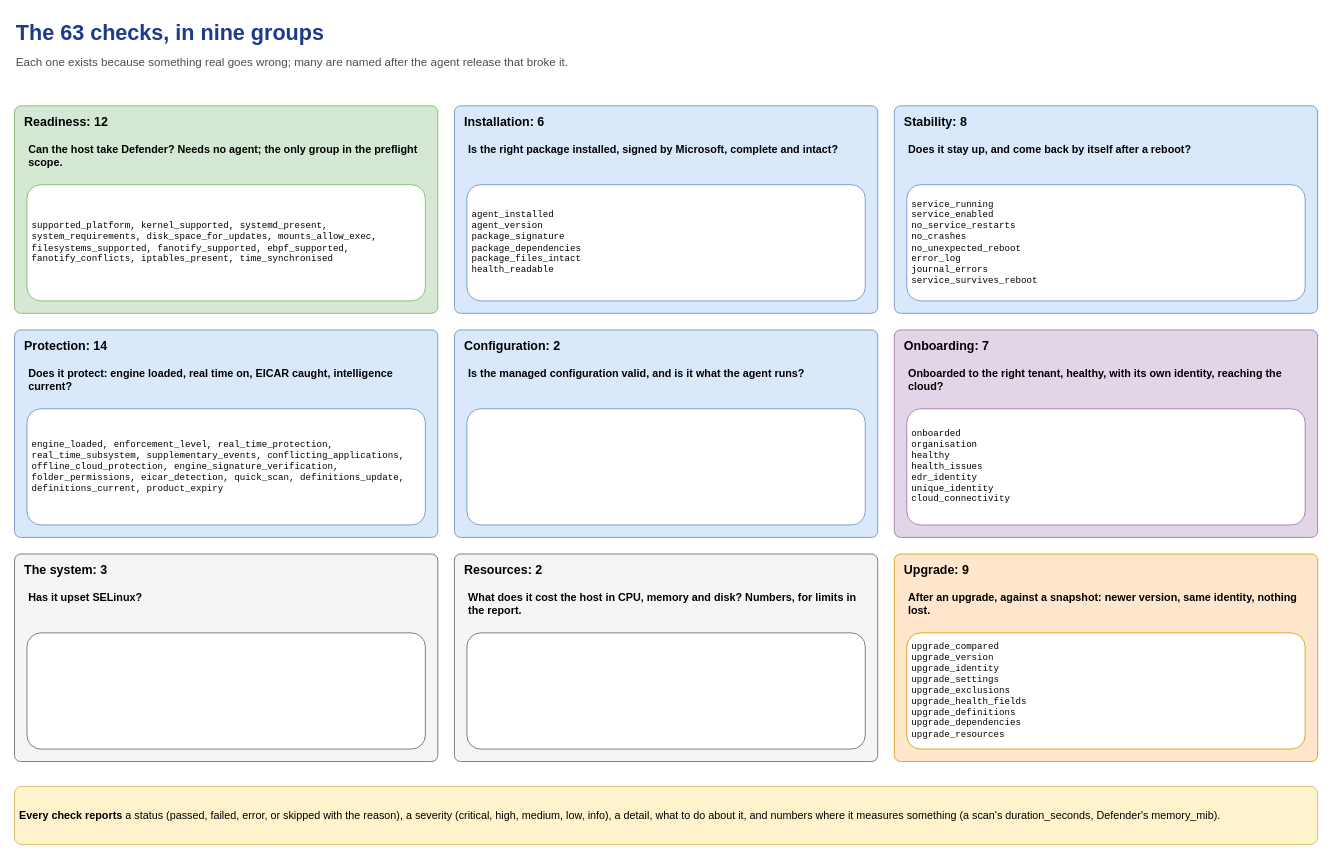
Image size: 1332x859. Some labels were removed from this diagram. The shapes that lost their labels are listed below. From the top down, each one's centre as x and y in pixels, then its label:
At point (665, 466): "managed_config_valid managed_config_applied".
At point (225, 690): "selinux_policy selinux_denials selinux_mode_unchanged".
At point (665, 690): "resource_usage disk_usage".
